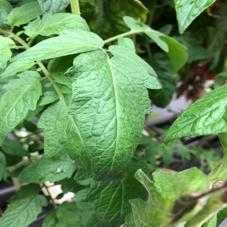Healthy: (68, 49, 162, 180), (0, 71, 43, 149), (6, 30, 103, 62)
